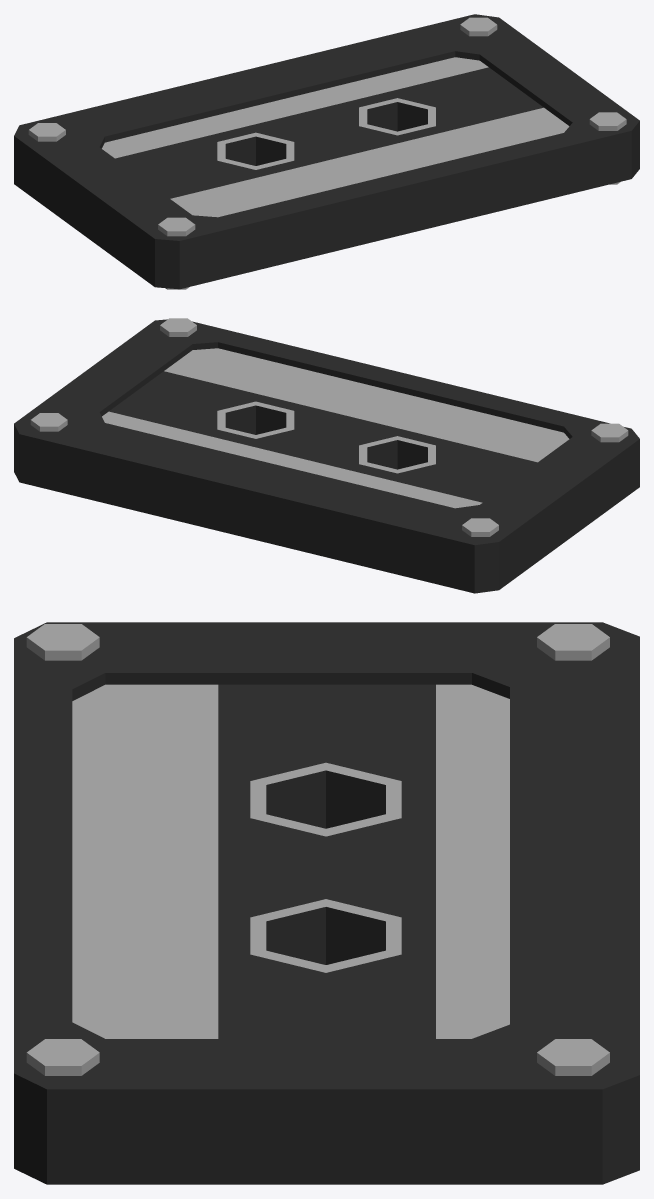
Rendered from Casette_01.fbx.
The picture shows the model from 3 angles, top to bottom: view 1: azimuth 30°, elevation 25°; view 2: azimuth 150°, elevation 25°; view 3: azimuth 270°, elevation 25°; orthographic projection. The views are drawn at different scales.
Parts seen in each view (by area): view 1: Casette_01; view 2: Casette_01; view 3: Casette_01.
Part boxes in pixels (left/top/right/bottom): Casette_01: left=14, top=14, right=639, bottom=289; Casette_01: left=14, top=318, right=639, bottom=593; Casette_01: left=14, top=622, right=639, bottom=1184.
Size of the model in its own units: 0.1812 by 0.0209 by 0.1027.
